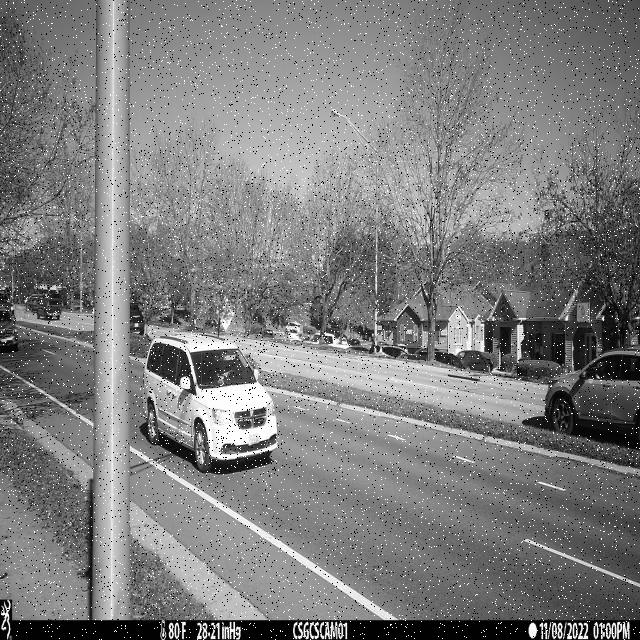Van: (143, 332, 278, 473)
